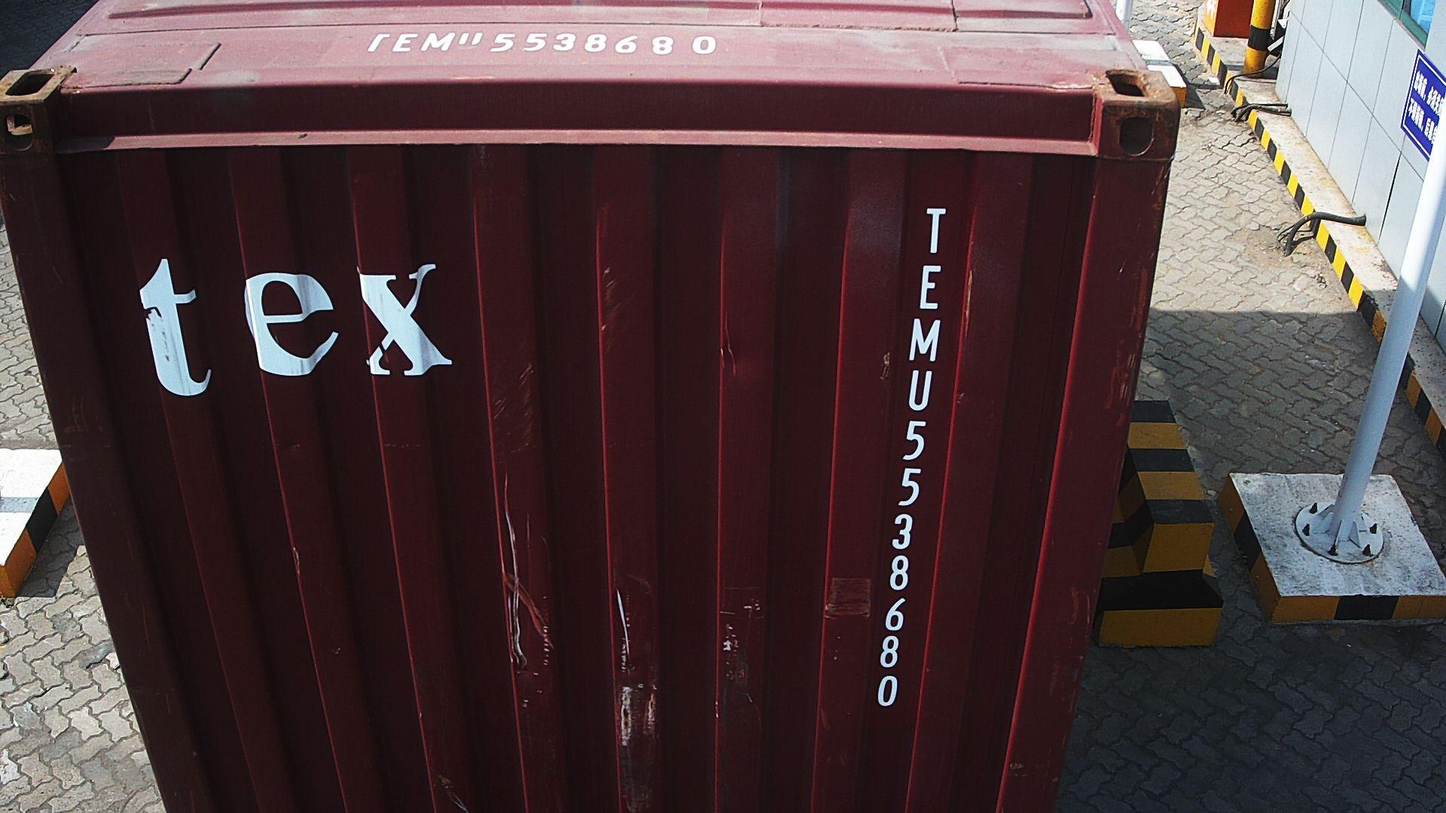container-numbers: (870, 203, 950, 711), (357, 29, 726, 59)
